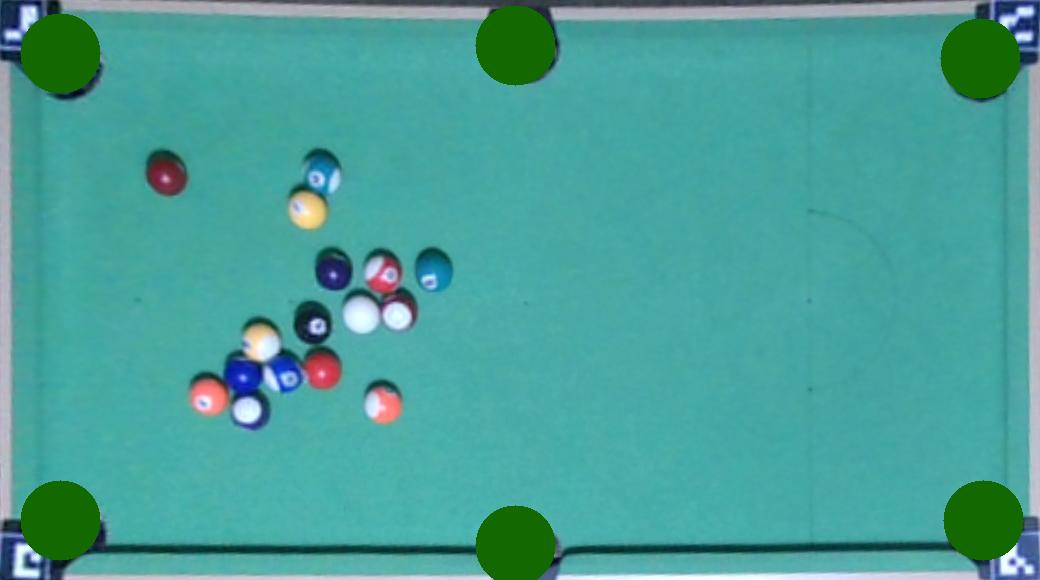Ball: (143, 152, 188, 194), (302, 154, 344, 194), (286, 190, 328, 230), (313, 250, 353, 290), (414, 252, 454, 292), (264, 354, 304, 393), (364, 254, 402, 294), (240, 323, 280, 361), (302, 352, 342, 389), (342, 296, 380, 334), (363, 386, 401, 424), (293, 306, 331, 344), (230, 394, 270, 430), (188, 379, 228, 415), (381, 294, 418, 332), (223, 356, 261, 392)
